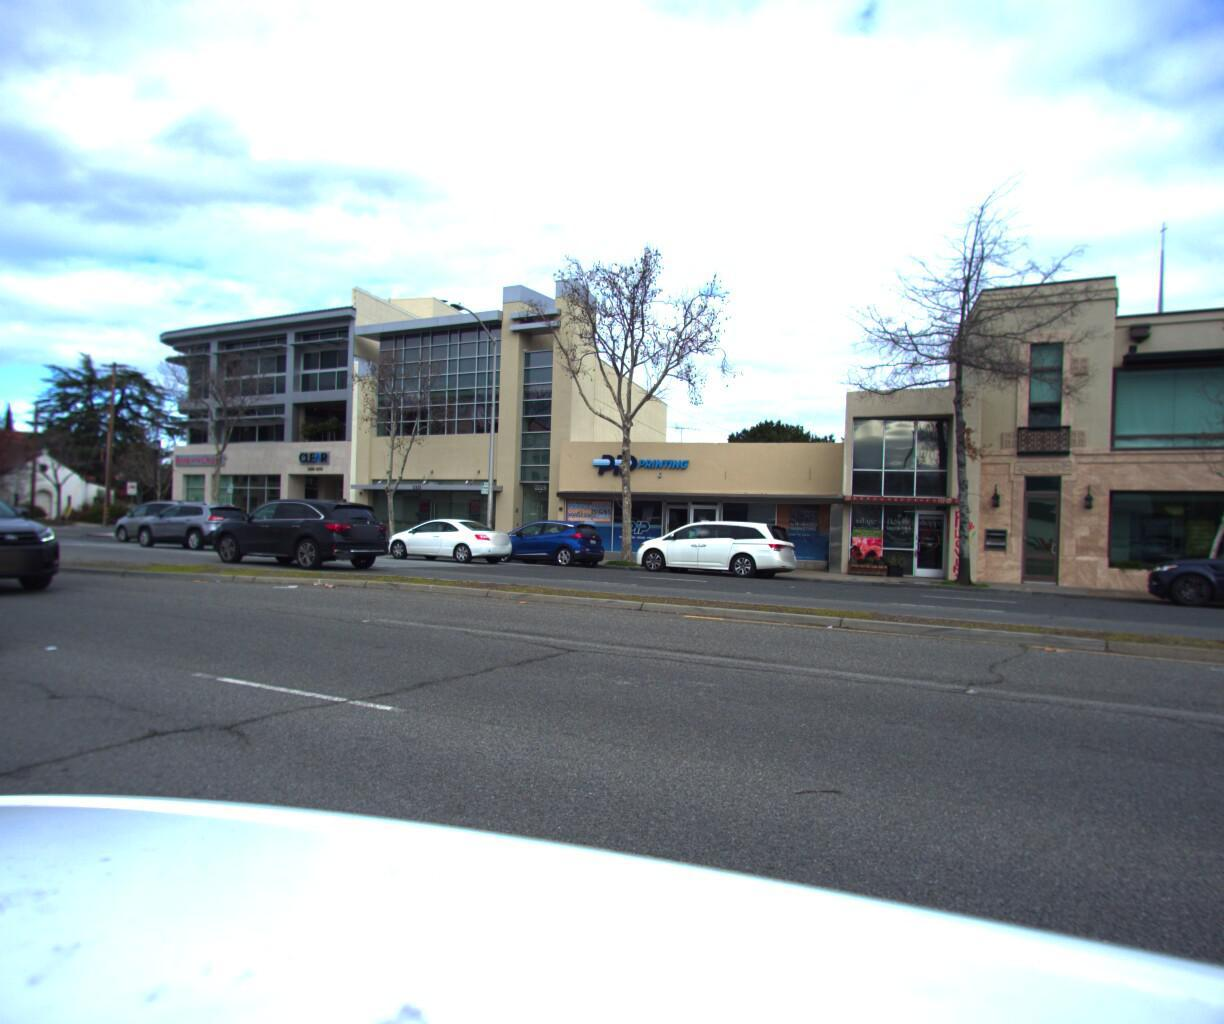car: (190, 495, 402, 573), (615, 510, 807, 578), (0, 473, 89, 602), (1134, 525, 1224, 625), (473, 511, 612, 567), (375, 513, 524, 563), (124, 493, 258, 549), (0, 476, 33, 701), (96, 495, 220, 543)
